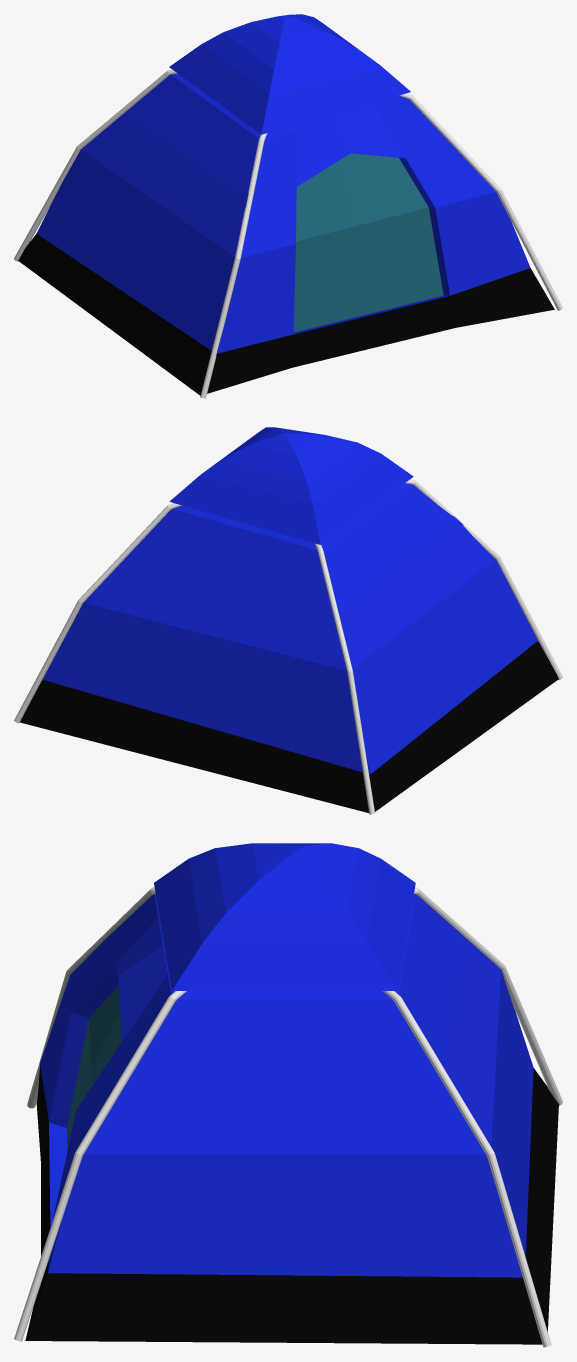
The model's file is Tent.fbx.
The picture shows the model from 3 angles, top to bottom: view 1: azimuth 30°, elevation 25°; view 2: azimuth 150°, elevation 25°; view 3: azimuth 270°, elevation 25°; orthographic projection. The views are drawn at different scales.
Parts seen in each view (by area): view 1: Circle; view 2: Circle; view 3: Circle.
Boxes of the visible parts, x1=… form: Circle: x1=14, y1=14, x2=562, y2=398; Circle: x1=14, y1=427, x2=562, y2=814; Circle: x1=14, y1=843, x2=562, y2=1347.
Size of the model in its own units: 529 by 378 by 492.
